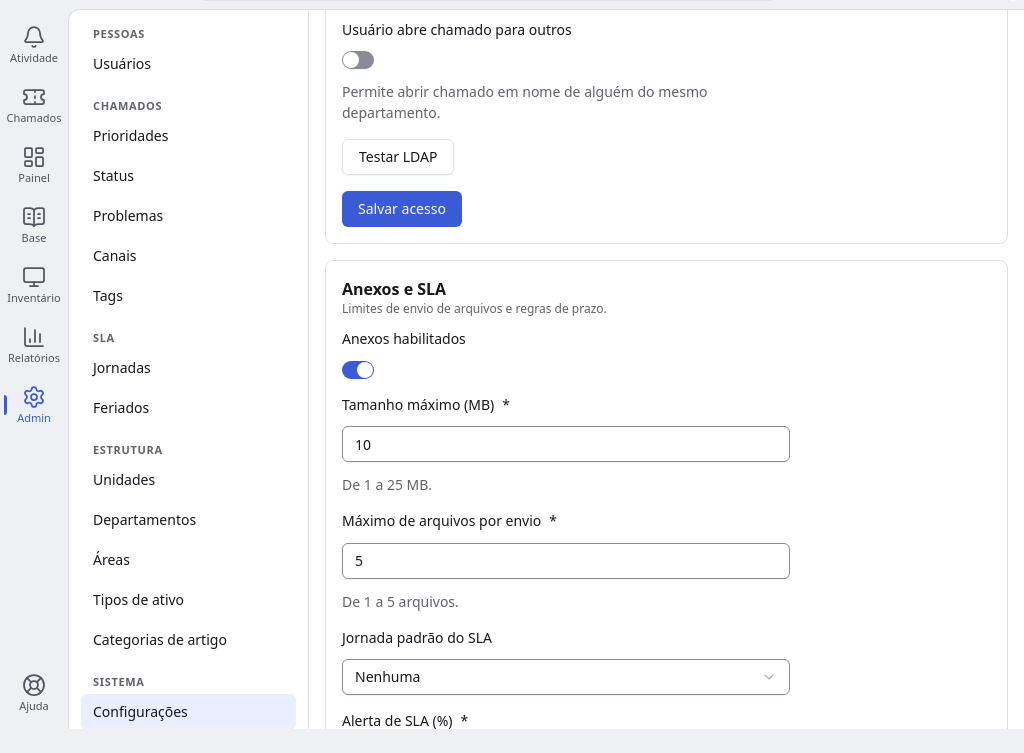
Scenario: /admin/configuracoes › (b) salvar "Anexos habilitados = não" faz o PATCH só com as chaves da seção e invalida o meta
(page scrolled)
Click the switch named "Anexos habilitados" below "Anexos habilitados". click: x=358, y=370
box: [342,361,374,379]
(page scrolled)
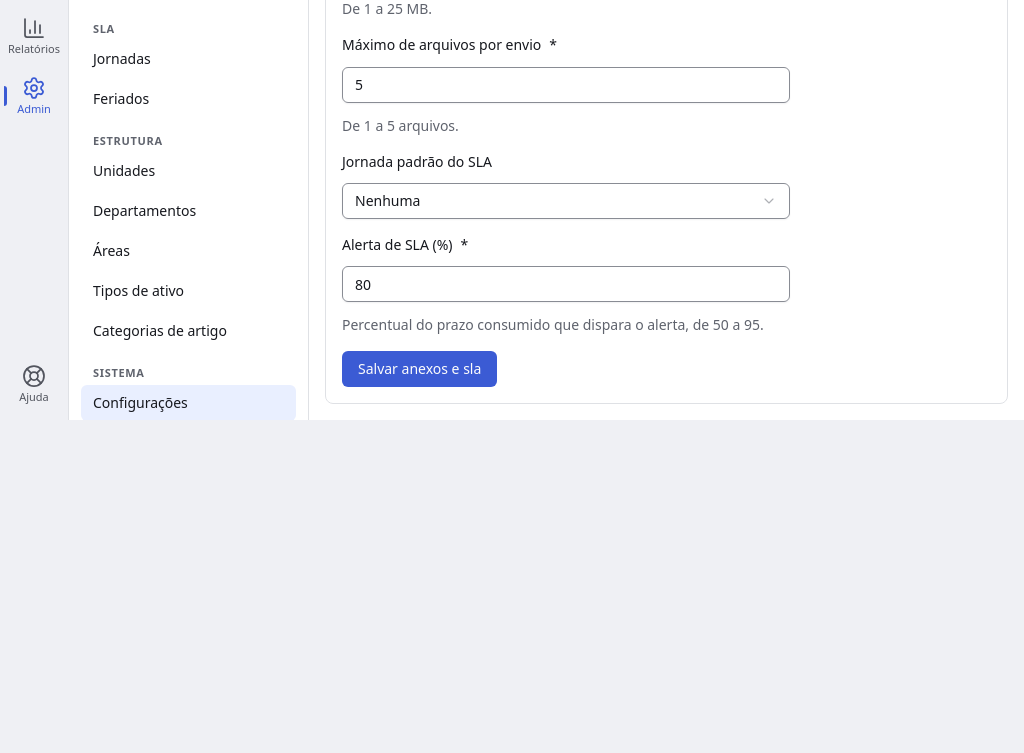
Click the button "Salvar anexos e sla". click: x=420, y=369
box: [342,351,497,387]
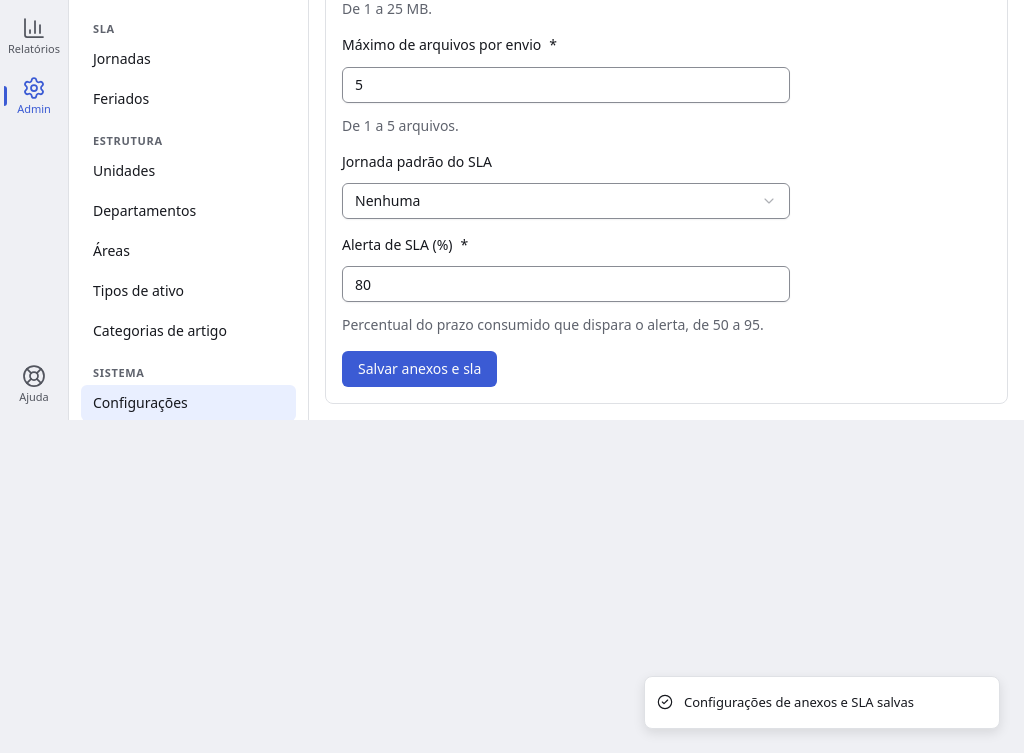
Expected: the text "Configurações de anexos e SLA salvas" is shown, [684,692,914,712]
